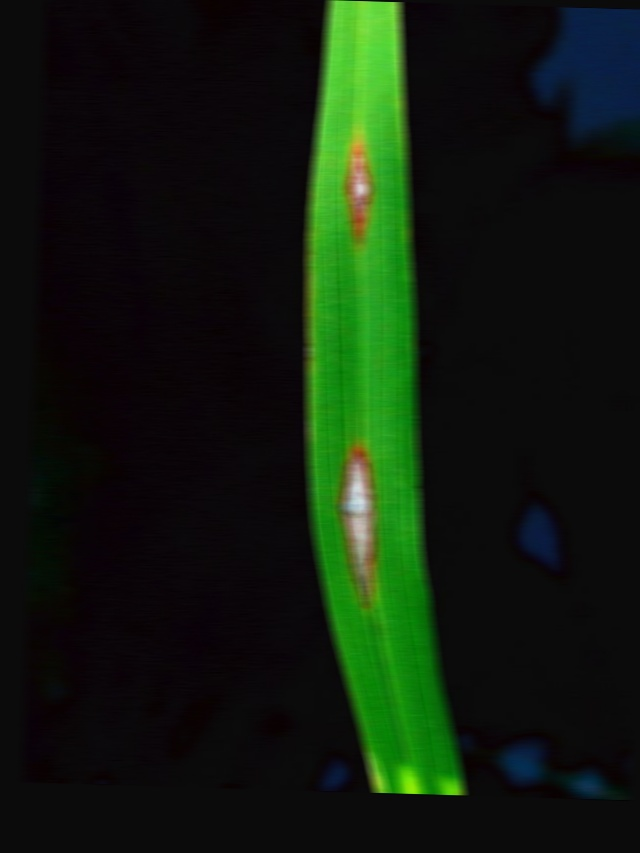Brown_Spot: (328, 442, 398, 623), (326, 128, 382, 252)
